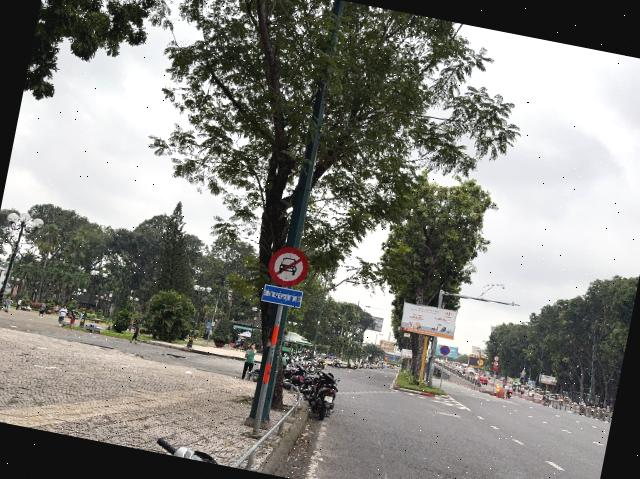cam-o-to: (264, 244, 312, 290)
